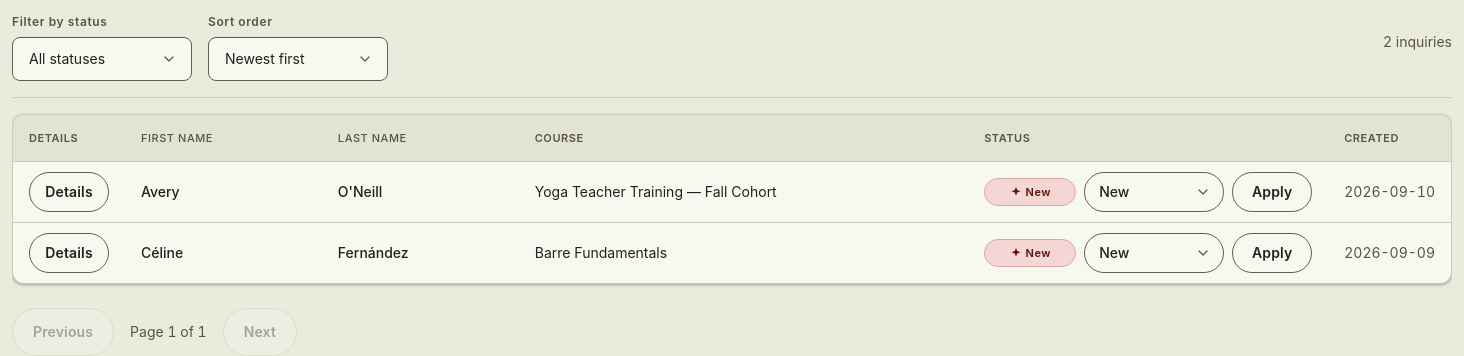
IT-UI-016 a row leaving the active filter disappears after refresh › refreshes with the current filter and reconciles totals without reporting failure
This screenshot has width=1464, height=356.
(page scrolled)
Expected: the row "O'Neill" is shown, [13, 162, 1451, 222]
Select "New" in the dropdown labelled "Filter by status": (102, 59) [12, 37, 192, 81]
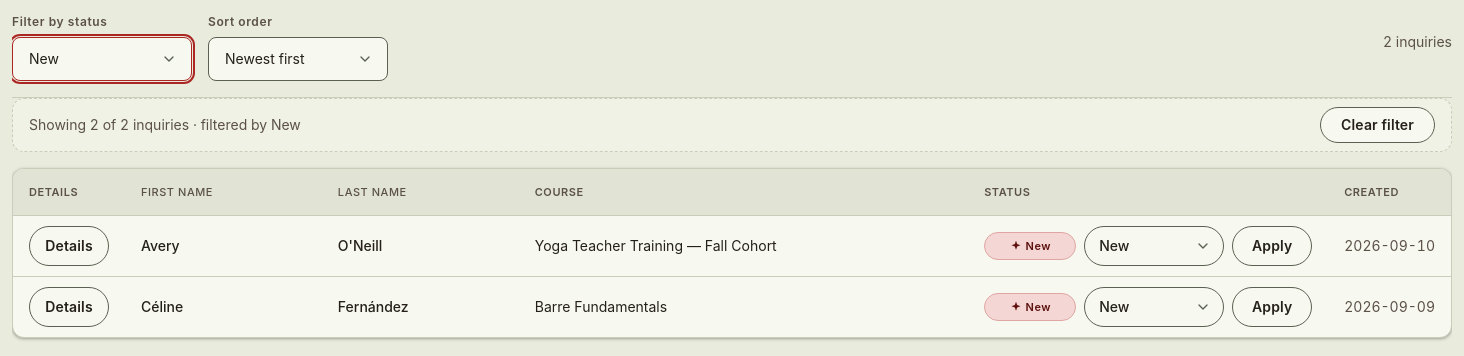
Select "Contacted" in the dropdown named "Status for Avery O'Neill": (1154, 246) [1084, 226, 1224, 266]
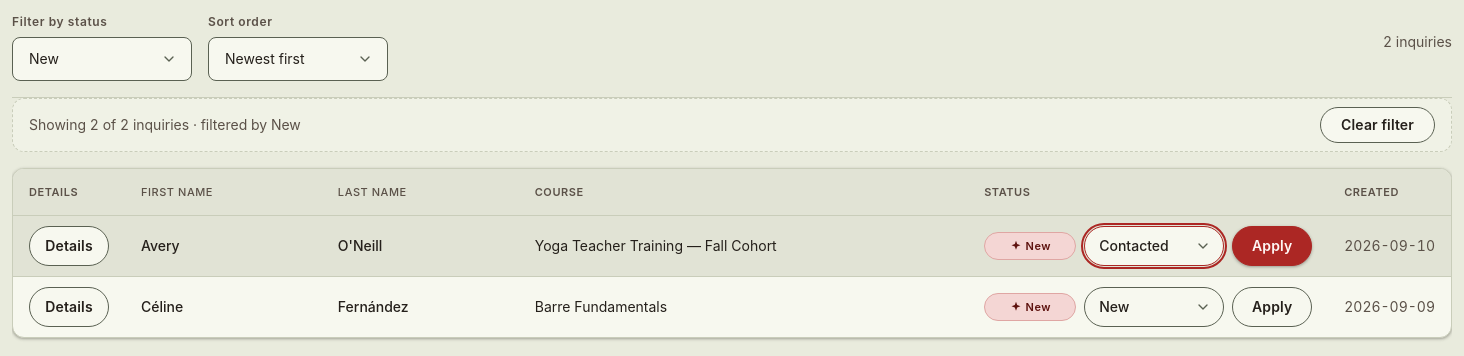
Click the button with aria-label "Apply for Avery O'Neill": (1272, 246) [1232, 226, 1312, 266]
(page scrolled)
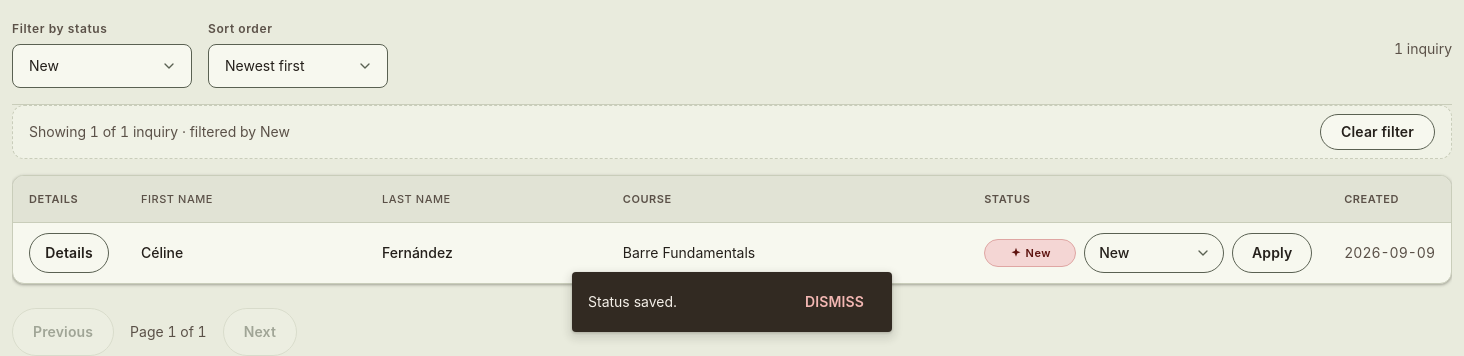
Expected: the cell "O'Neill" is gone
Expected: the text "1 inquiry" is shown, [1394, 38, 1452, 60]
Expected: the text "Status saved." is shown, [588, 293, 677, 310]
